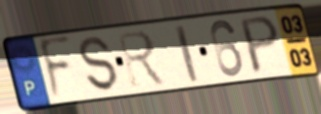6: (209, 18, 245, 80)
F: (37, 33, 75, 105)
I: (172, 23, 201, 85)
P: (238, 14, 281, 77)
R: (114, 28, 169, 90)
S: (78, 35, 121, 94)
